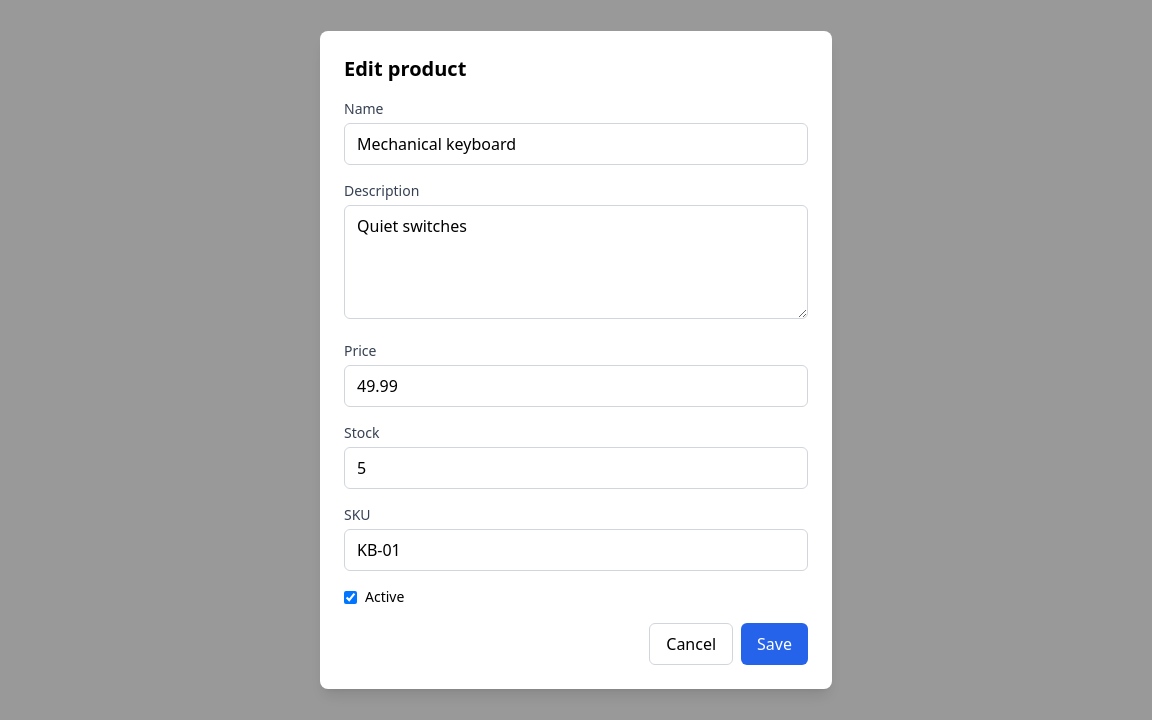
Test: ProductFormModal (save flow) › asks for confirmation before any request; cancel sends nothing and keeps the values
Click the button "Save" at (775, 644), box [741, 623, 808, 665]
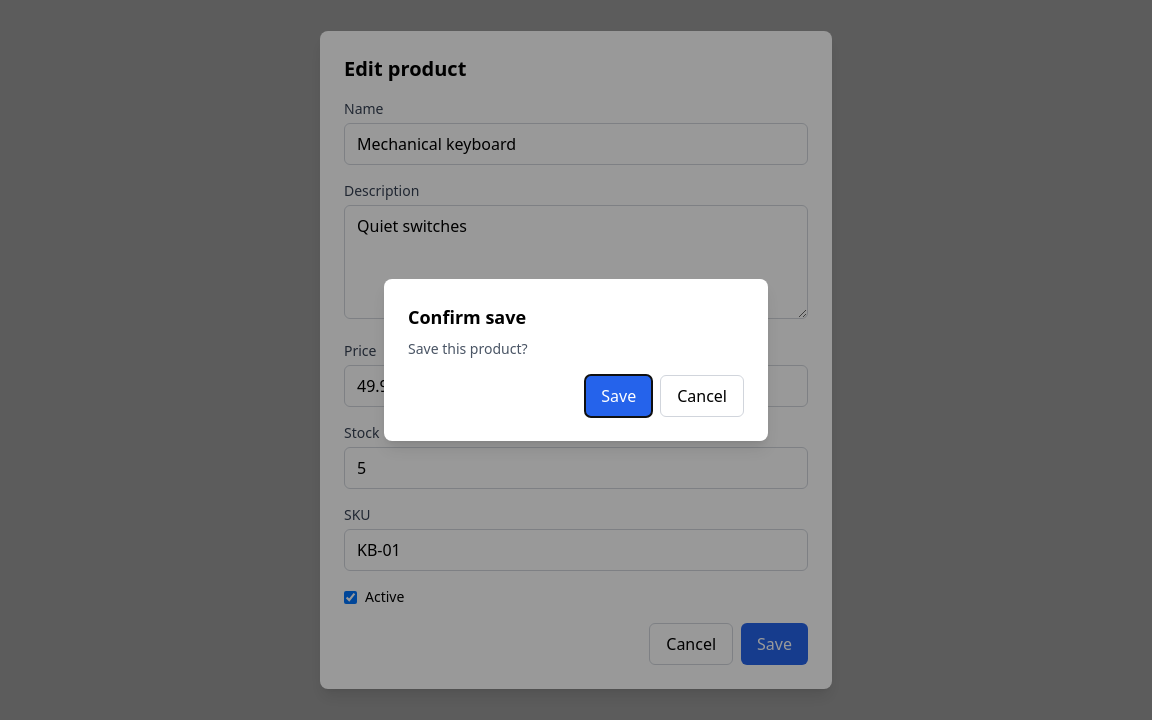
Expected: the text "Save this product?" is shown, [408, 339, 528, 358]
Click the button "Cancel" at (702, 396), box [660, 375, 744, 417]
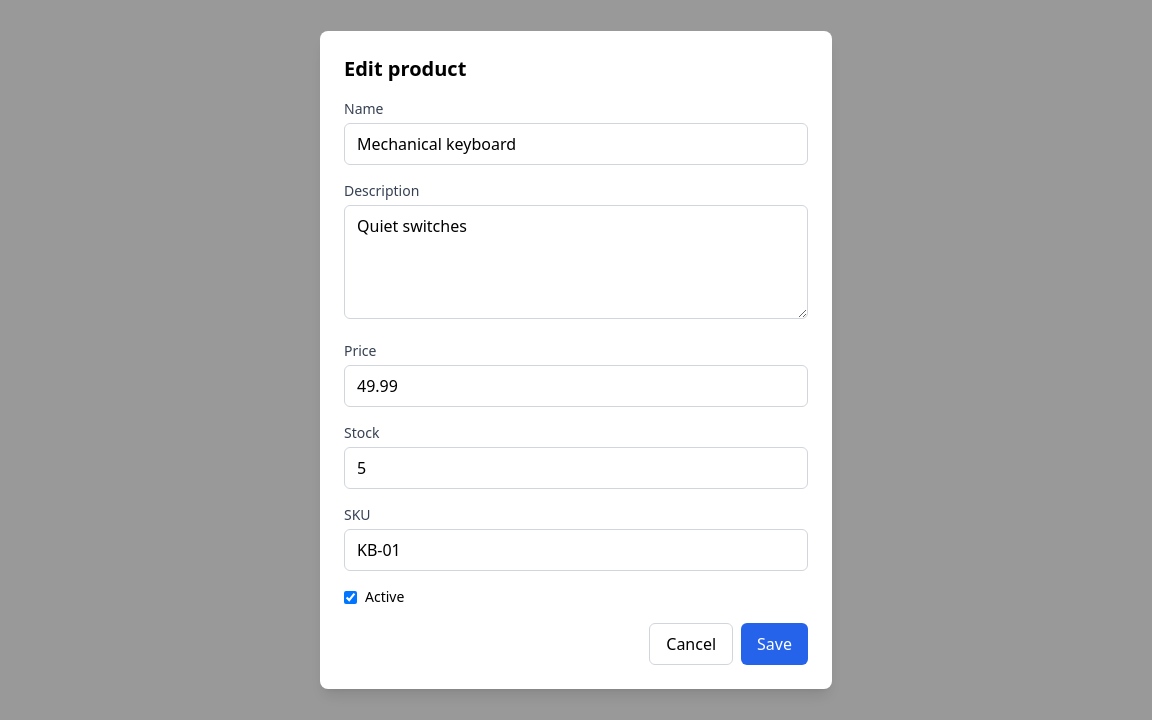
Expected: the field labelled "Price" holds "49.99", [344, 365, 808, 407]
Expected: the heading "Confirm save" is gone
